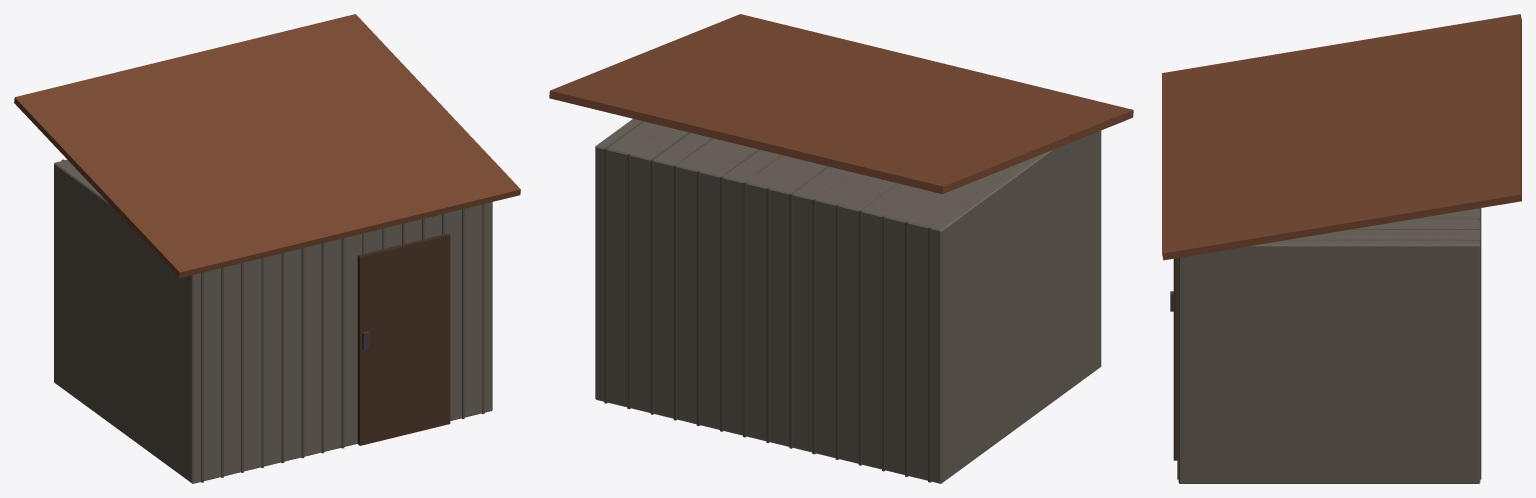
Rendered from shed.glb.
The picture shows the model from 3 angles, left to right: view 1: azimuth 30°, elevation 25°; view 2: azimuth 150°, elevation 25°; view 3: azimuth 270°, elevation 25°; orthographic projection. The views are drawn at different scales.
Parts seen in each view (by area): view 1: Shed; view 2: Shed; view 3: Shed.
Boxes of the visible parts, left/top/right/bottom form: Shed: left=14, top=14, right=520, bottom=483; Shed: left=549, top=14, right=1133, bottom=483; Shed: left=1162, top=14, right=1521, bottom=483.
Bounding box in the file's own units: 3.4 × 2.64 × 2.86.
